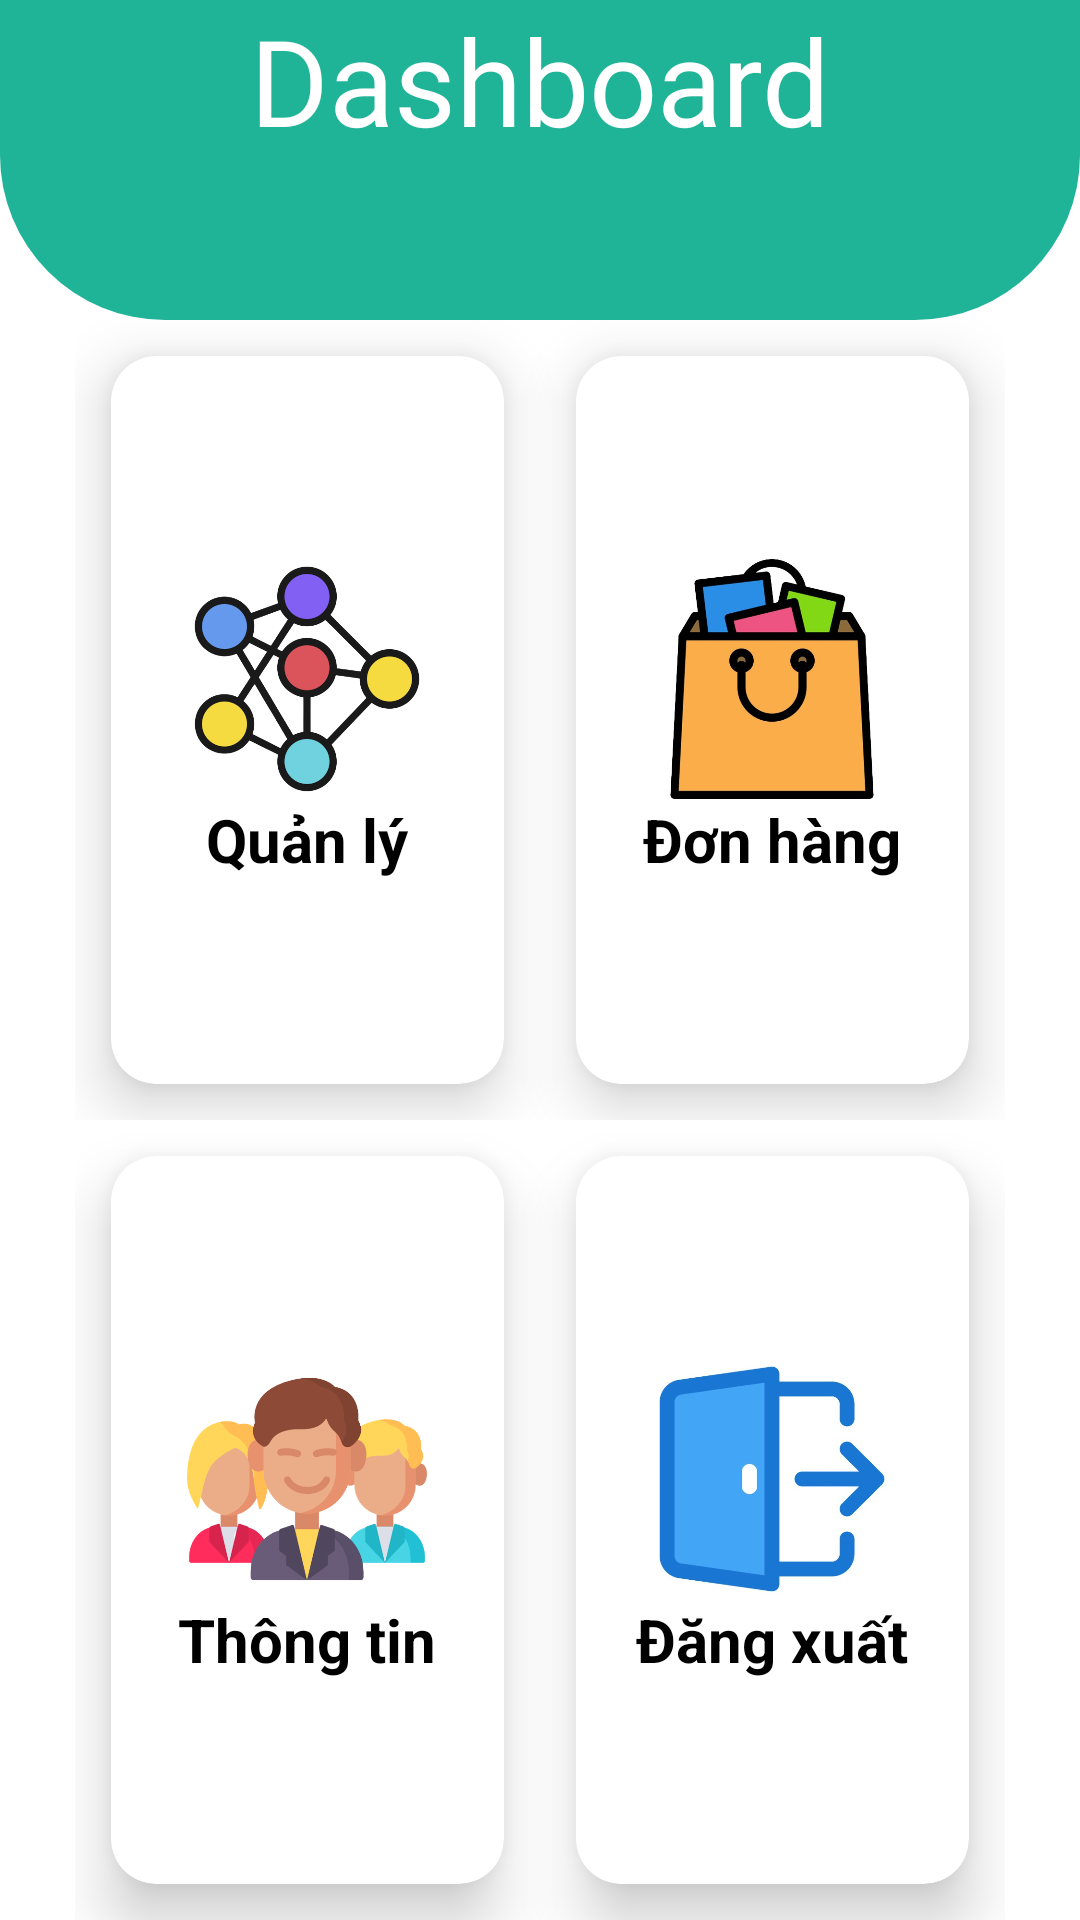

Icon click points for this 1080px x 1920px phone screenshot, format point (x, y):
man: point (307, 1479)
neural: point (307, 678)
